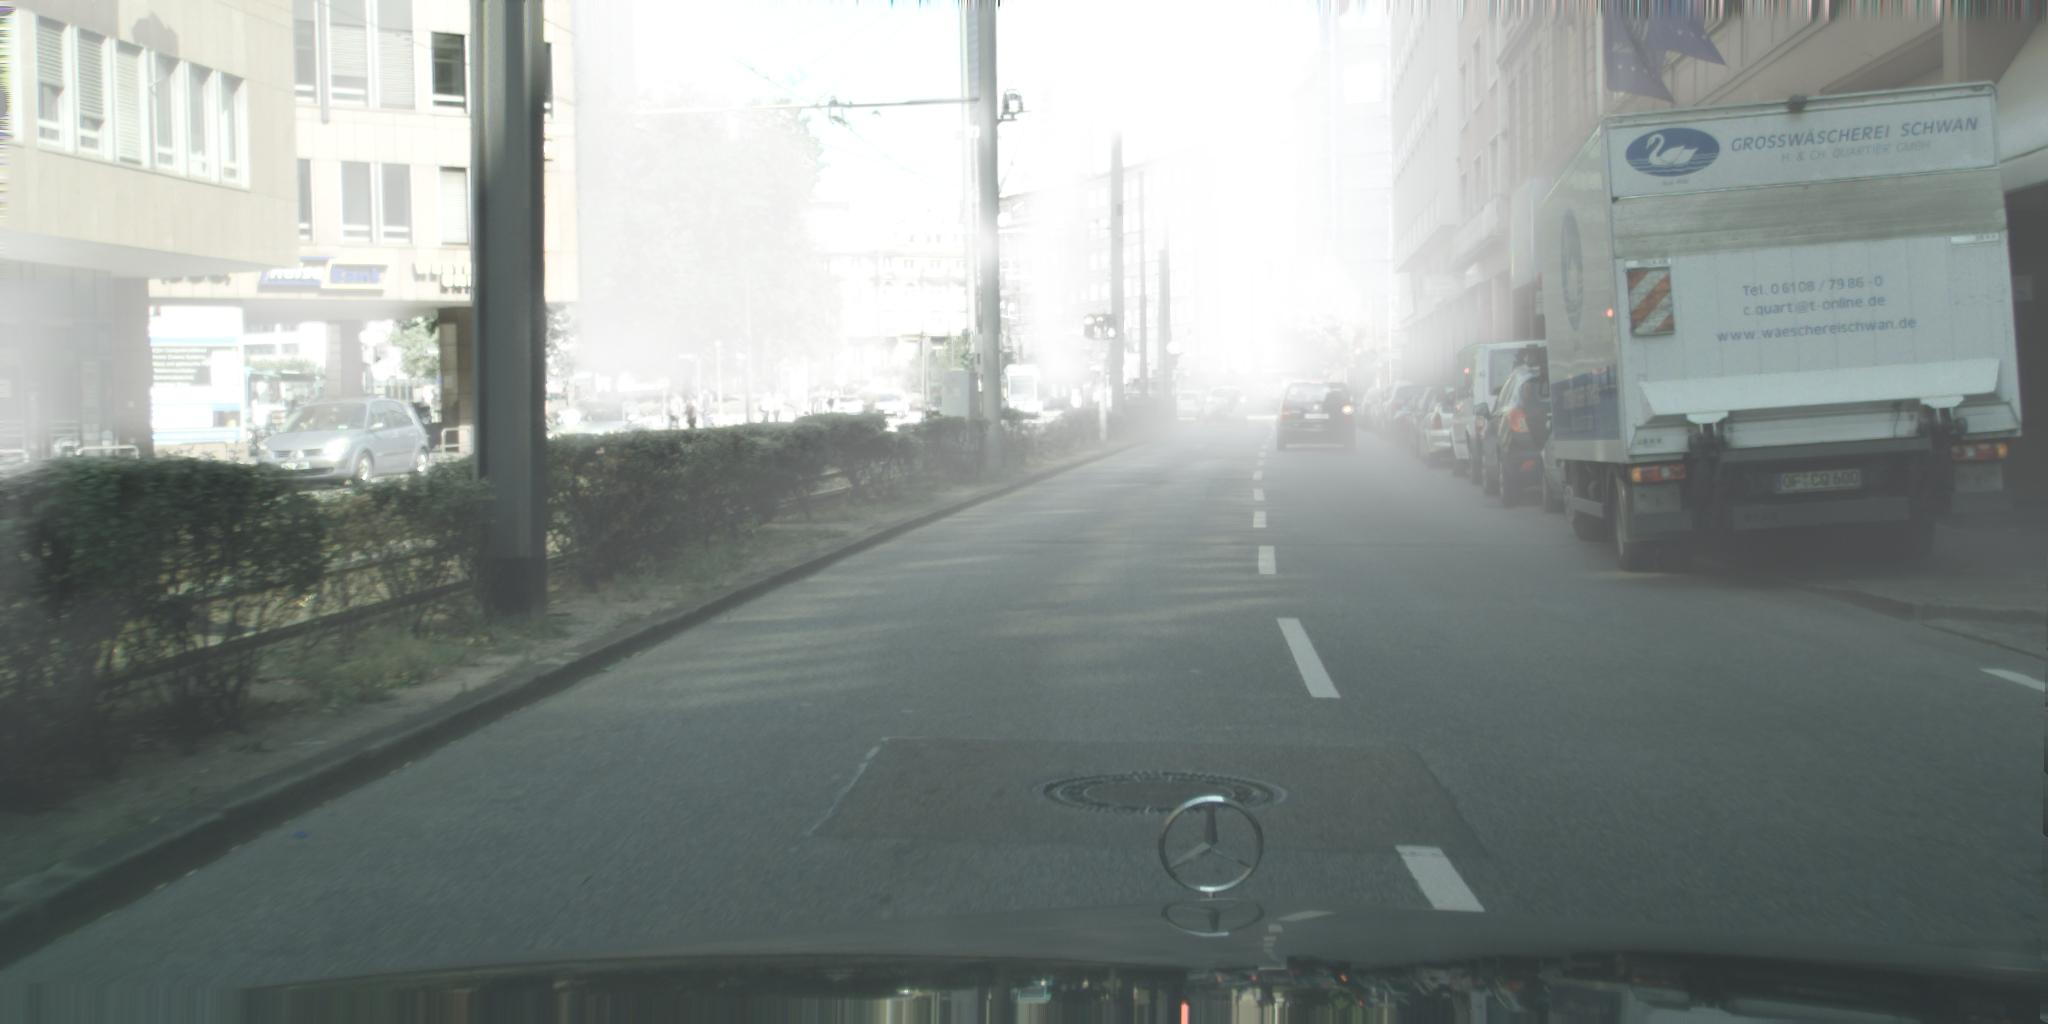car: (1446, 340, 1566, 487), (256, 394, 434, 492), (1475, 360, 1575, 509), (539, 400, 654, 458), (1277, 379, 1358, 453), (1537, 410, 1576, 515), (1204, 385, 1251, 428), (1172, 391, 1215, 423), (872, 388, 912, 421), (835, 394, 869, 421), (1123, 392, 1165, 411), (923, 396, 955, 421)
train: (998, 364, 1044, 421)
truck: (1536, 81, 2027, 579)
